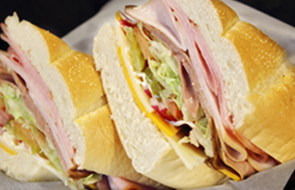soup: (91, 0, 295, 184), (0, 13, 146, 184)
